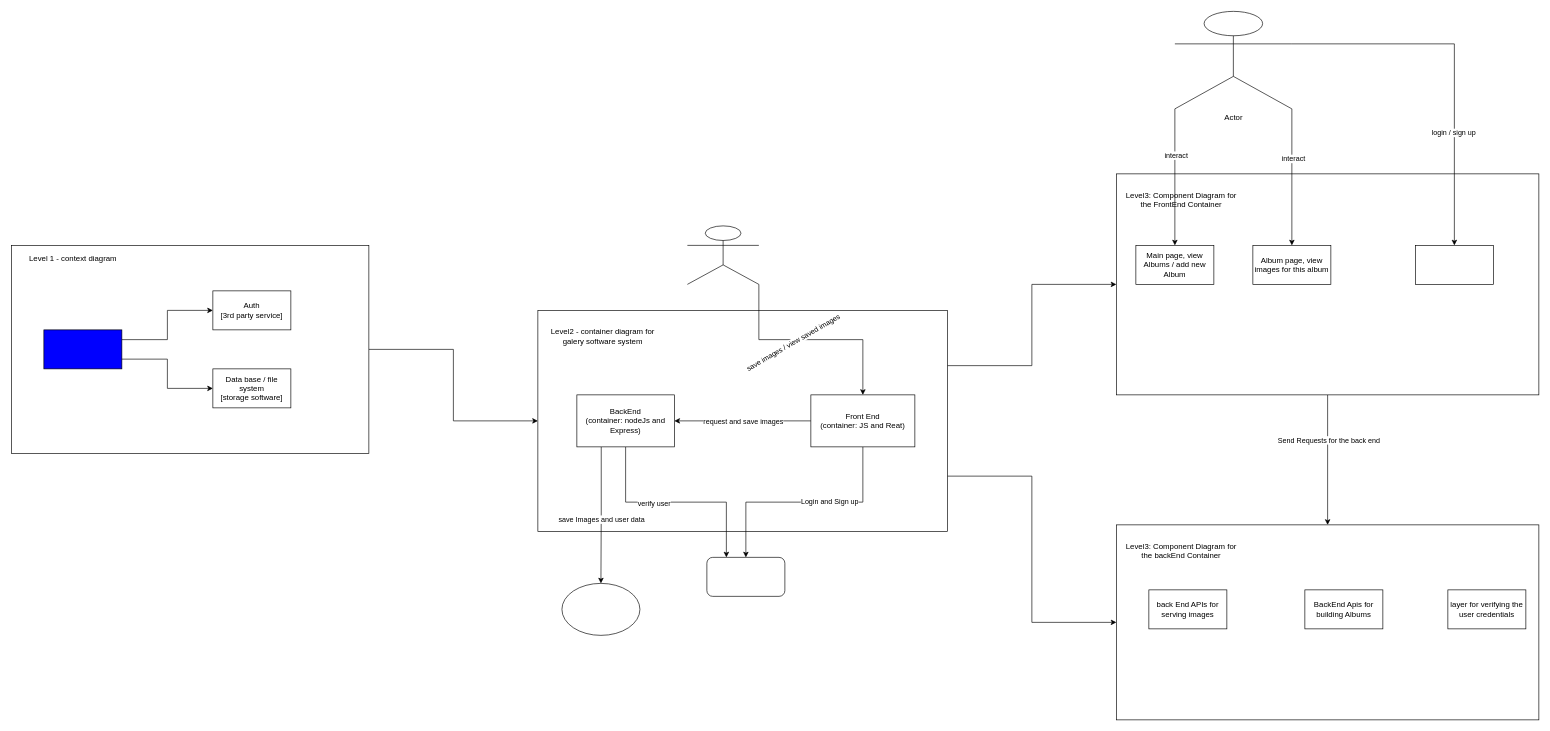
Some shapes in this 1550 by 731 pixel diagram are drawn without their labels. Here are the shapes that lost their labels. From the top down, the centre of each, then its label:
At pixel 723 254: "User".
At pixel 1454 264: "Login and signup component".
At pixel 82 349: "photo Galery System [software system].".
At pixel 745 576: "Auth service".
At pixel 600 609: "Data base / file system".
